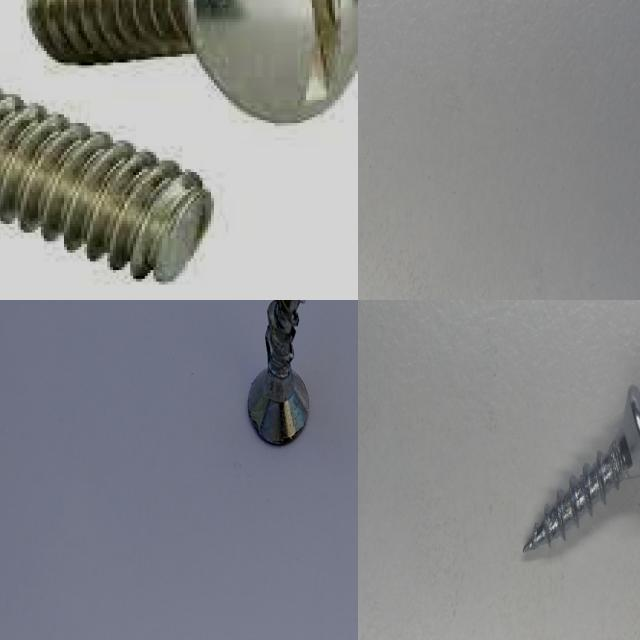Screw: (24, 0, 358, 126), (0, 90, 214, 285), (523, 383, 640, 551), (248, 300, 309, 444)
